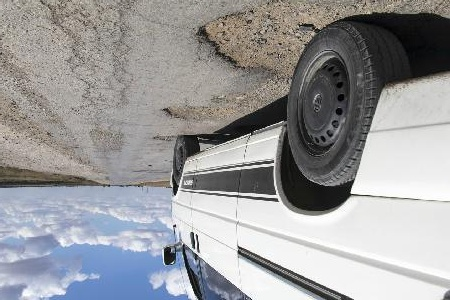pothole: (191, 2, 334, 81), (161, 102, 237, 123), (152, 134, 180, 144)
